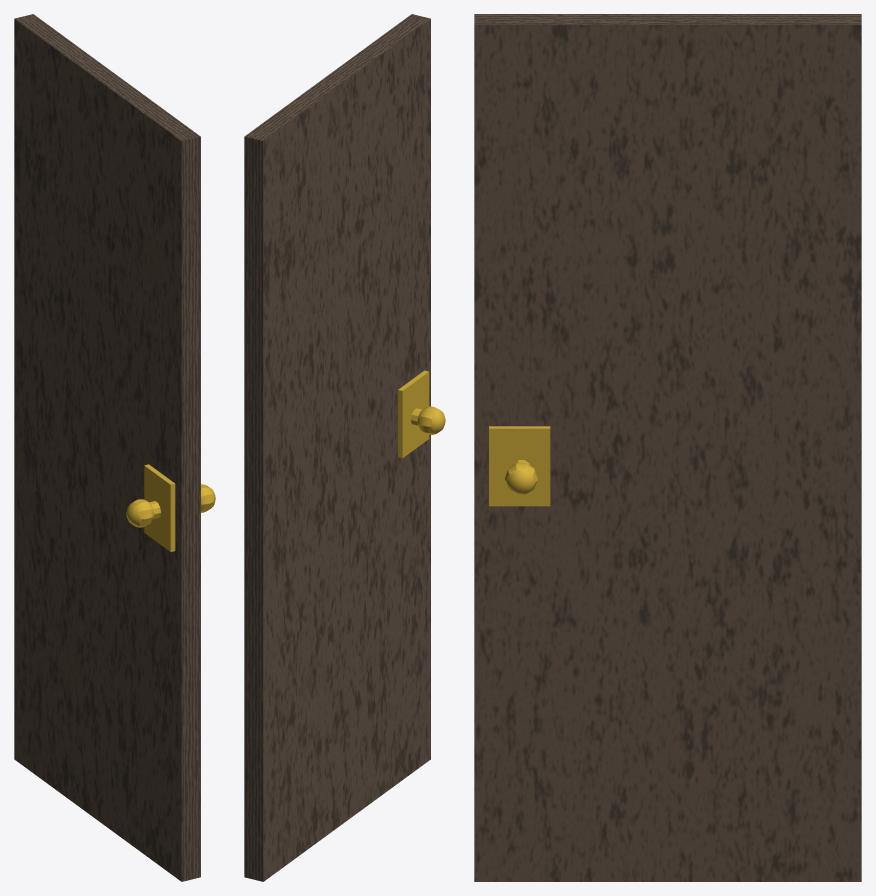
The model's file is puerta.fbx.
3 views of the same model, side by side, from view 1: azimuth 30°, elevation 25°; view 2: azimuth 150°, elevation 25°; view 3: azimuth 270°, elevation 25° (orthographic). The views are drawn at different scales.
Visible parts, largest first — view 1: puerta; view 2: puerta; view 3: puerta.
Part boxes in pixels (left/top/right/bottom): puerta: left=14, top=14, right=215, bottom=881; puerta: left=244, top=14, right=445, bottom=881; puerta: left=474, top=14, right=861, bottom=881.
Size of the model in its own units: 0.291 by 2.41 by 0.9865.
